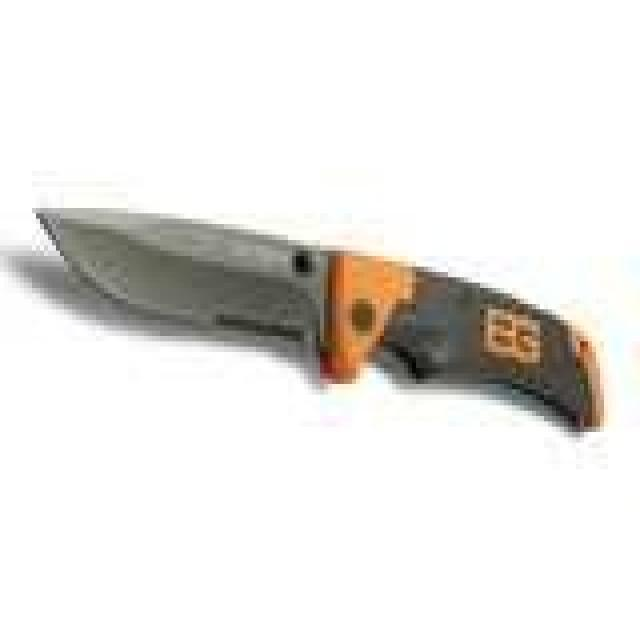knife: (16, 160, 590, 454)
